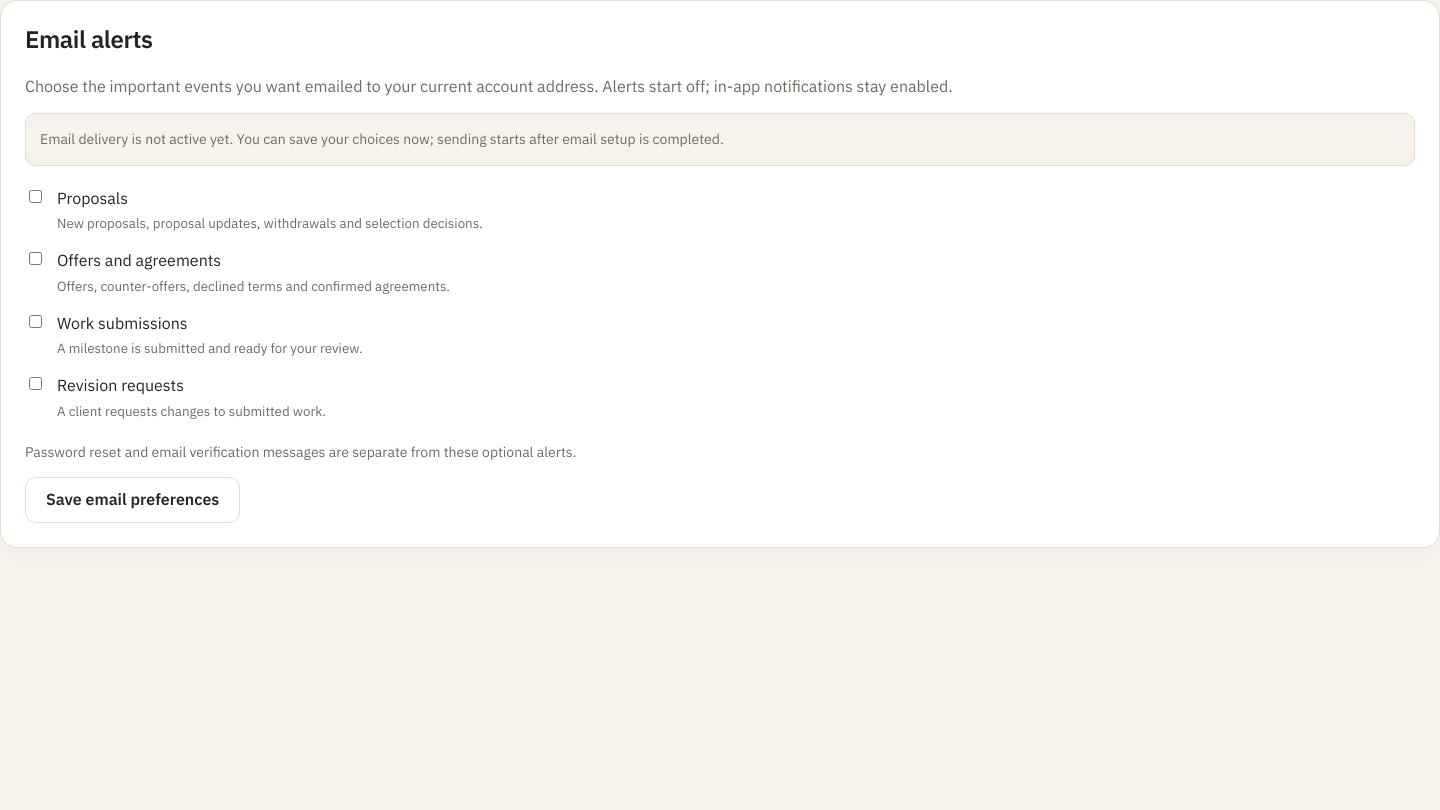
it: saves selected alerts while honestly showing delivery is not active
Expected: the text "Email delivery is not active" is shown, [40,130,724,148]
Click the checkbox labelled "Offers and agreements": point(36, 259) [29,252,42,265]
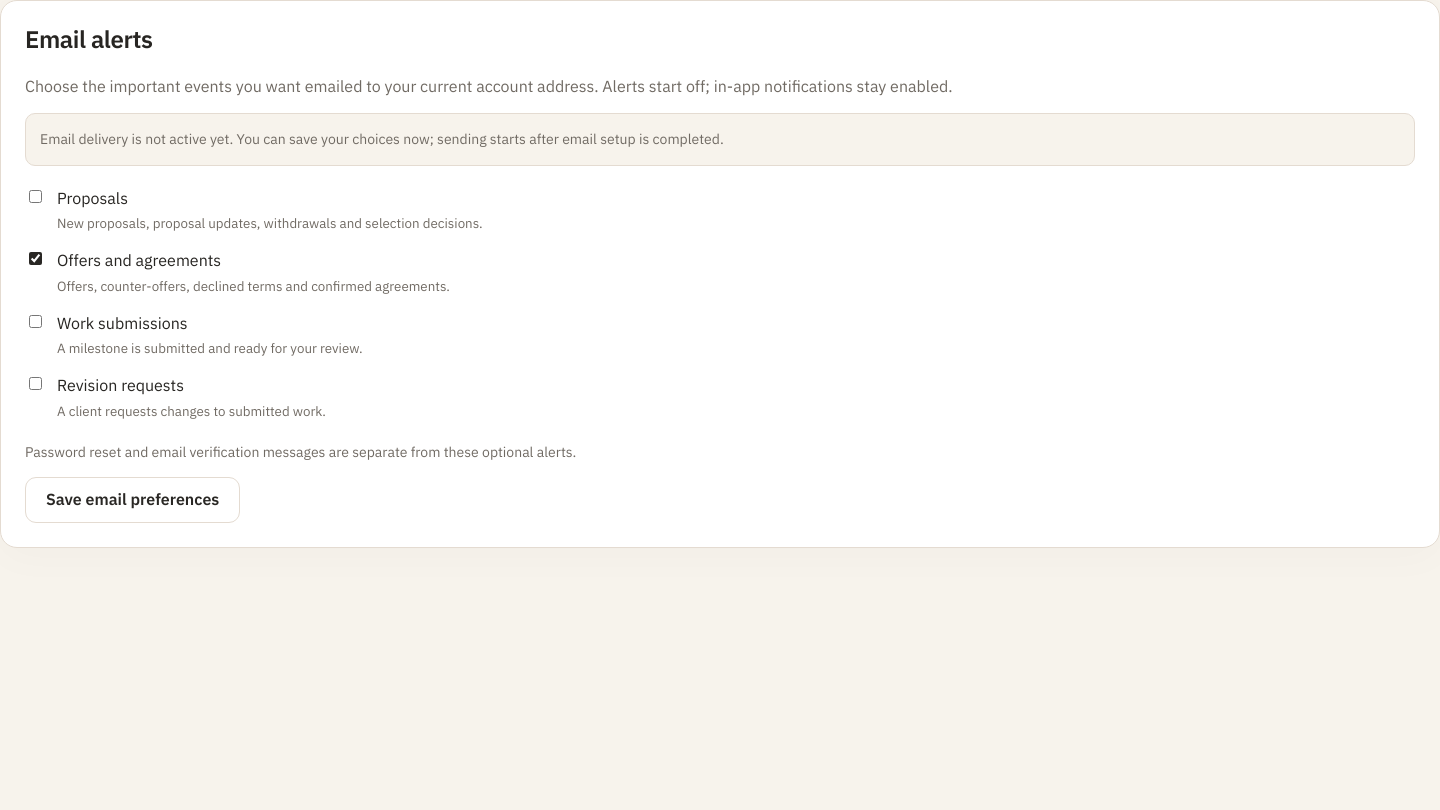
Click the button "Save email preferences": point(133, 500) [25,476,240,522]
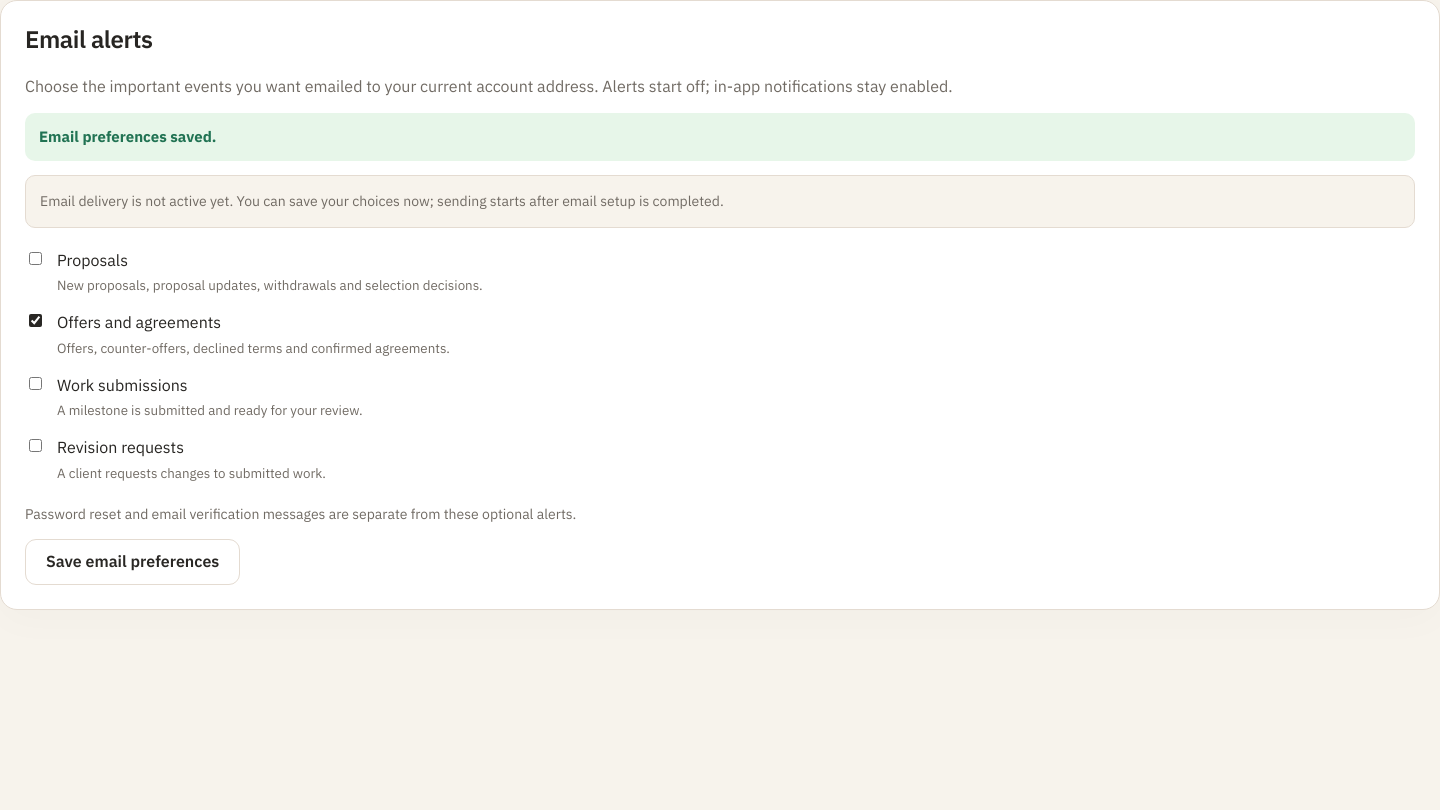
Expected: the message shows "Email preferences saved", [39,127,216,146]
